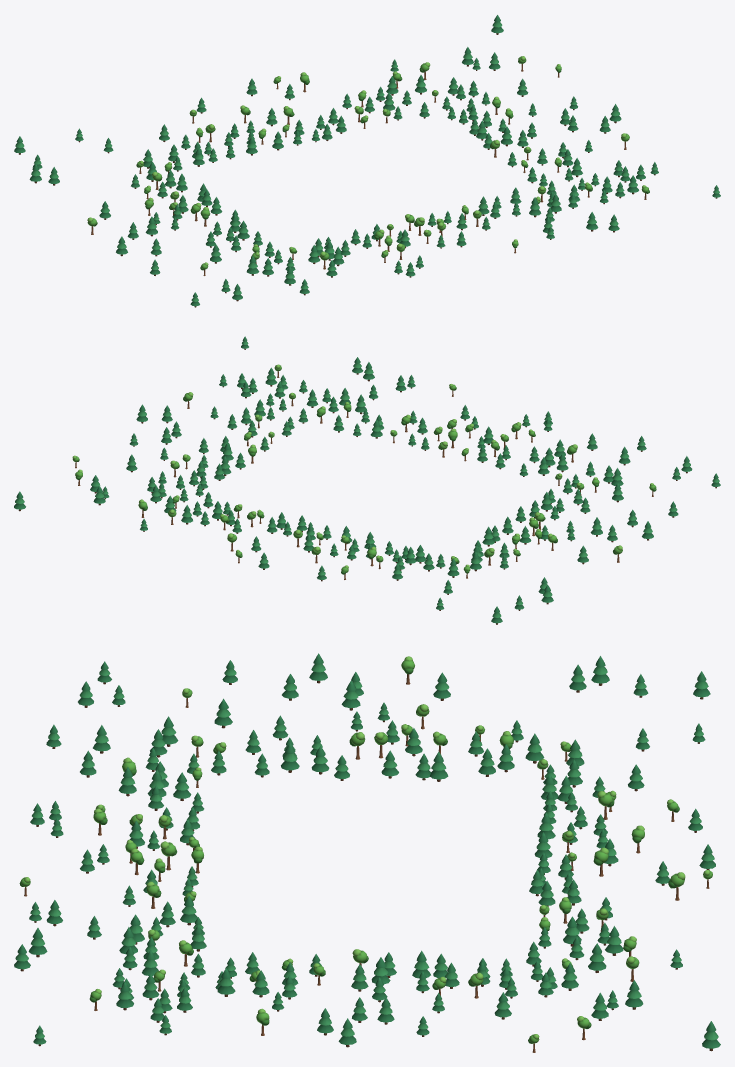
The model's file is level_01_forest.glb.
The picture shows the model from 3 angles, top to bottom: view 1: azimuth 30°, elevation 25°; view 2: azimuth 150°, elevation 25°; view 3: azimuth 270°, elevation 25°; orthographic projection. The views are drawn at different scales.
Visible parts, largest first — view 1: Ring_1_m2, Ring_m1_m2, Ring_m2_1, Ring_0_m2, Ring_m1_1, Ring_1_1, Ring_m2_m1, Ring_1_m1, Ring_1_0, Ring_0_1, Ring_m2_m2, Ring_m2_0 (+4 smaller); view 2: Ring_m2_1, Ring_1_1, Ring_m1_1, Ring_1_m2, Ring_m1_m2, Ring_m2_m1, Ring_1_m1, Ring_0_m2, Ring_0_1, Ring_m2_m2, Ring_1_0, Ring_m2_0 (+3 smaller); view 3: Ring_m2_1, Ring_m2_m1, Ring_1_m2, Ring_m1_1, Ring_1_1, Ring_m1_m2, Ring_0_m2, Ring_1_m1, Ring_0_1, Ring_m2_0, Ring_m2_m2, Ring_1_0 (+8 smaller).
Part boxes in pixels (left/top/right/bottom): Ring_1_m2: left=376, top=59, right=478, bottom=120; Ring_m1_m2: left=189, top=105, right=302, bottom=162; Ring_m2_1: left=246, top=238, right=344, bottom=295; Ring_0_m2: left=283, top=72, right=390, bottom=142; Ring_m1_1: left=324, top=214, right=445, bottom=274; Ring_1_1: left=510, top=173, right=625, bottom=221; Ring_m2_m1: left=131, top=169, right=222, bottom=221; Ring_1_m1: left=447, top=92, right=536, bottom=149; Ring_1_0: left=490, top=130, right=582, bottom=186; Ring_0_1: left=428, top=196, right=553, bottom=247; Ring_m2_m2: left=103, top=124, right=204, bottom=181; Ring_m2_0: left=200, top=207, right=274, bottom=257; Ring_m2_1: left=538, top=433, right=646, bottom=492; Ring_1_1: left=266, top=375, right=378, bottom=432; Ring_m1_1: left=438, top=414, right=552, bottom=476; Ring_1_m2: left=138, top=477, right=230, bottom=531; Ring_m1_m2: left=303, top=525, right=408, bottom=579; Ring_m2_m1: left=471, top=516, right=548, bottom=569; Ring_1_m1: left=158, top=438, right=245, bottom=496; Ring_0_m2: left=220, top=504, right=315, bottom=552; Ring_0_1: left=353, top=375, right=469, bottom=450; Ring_m2_m2: left=392, top=545, right=481, bottom=594; Ring_1_0: left=220, top=399, right=294, bottom=463; Ring_m2_0: left=515, top=478, right=590, bottom=529; Ring_m2_1: left=46, top=716, right=203, bottom=800; Ring_m2_m1: left=374, top=720, right=523, bottom=781; Ring_1_m2: left=526, top=916, right=682, bottom=997; Ring_m1_1: left=49, top=785, right=204, bottom=873; Ring_1_1: left=87, top=914, right=206, bottom=1000; Ring_m1_m2: left=534, top=790, right=679, bottom=874; Ring_0_m2: left=529, top=847, right=685, bottom=933; Ring_1_m1: left=371, top=950, right=517, bottom=1002; Ring_0_1: left=46, top=848, right=204, bottom=936; Ring_m2_0: left=211, top=715, right=365, bottom=780; Ring_m2_m2: left=525, top=728, right=649, bottom=803; Ring_1_0: left=215, top=949, right=368, bottom=999.
Bounding box in the file's own units: 56.09 × 2.96 × 44.26.
1 material, 1 textured.
